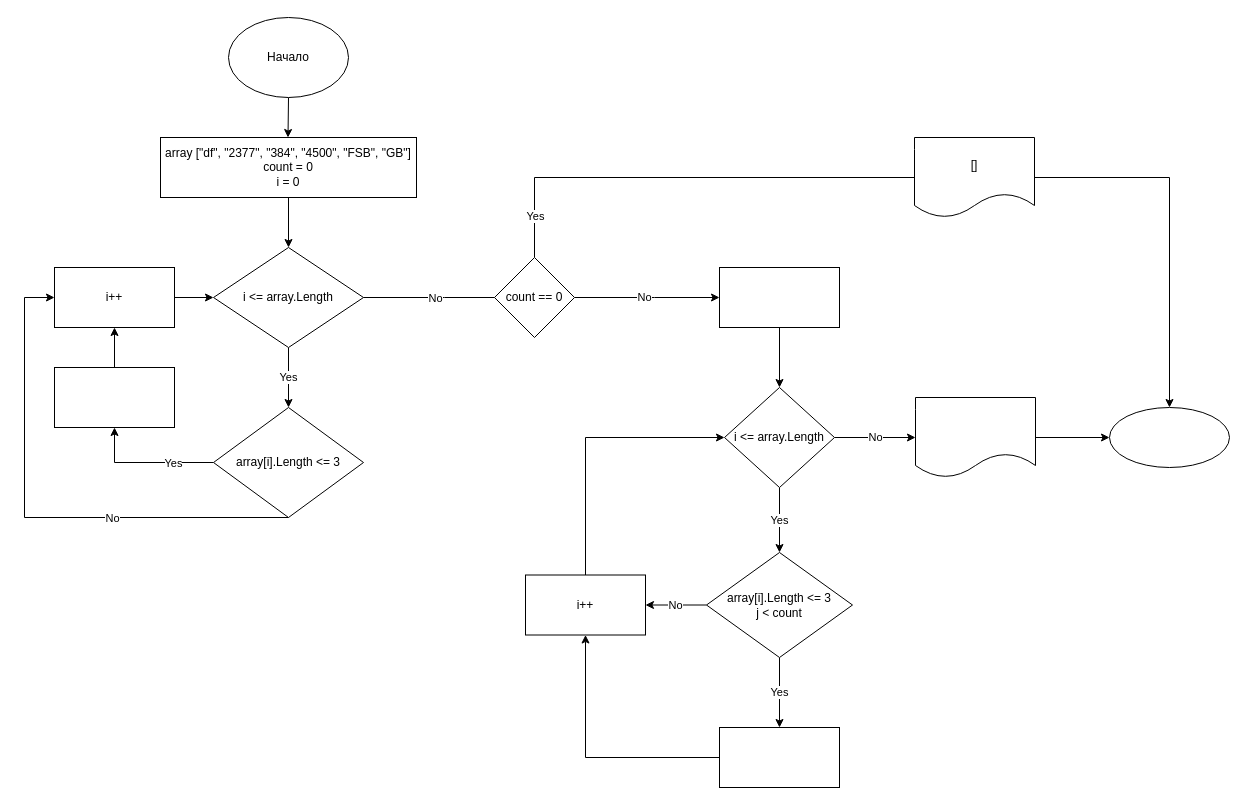
The diagram is 1247 pixels wide and 805 high, and some of its shapes have lost their labels. Here are the shapes that lost their labels. From the top down, the centre of each, then its label:
pixel 779 297: newArray [count] j = 0 i = 0
pixel 114 397: count++
pixel 975 437: newArray[]
pixel 1169 437: Конец
pixel 779 757: newArray[j] = array[i] j++
